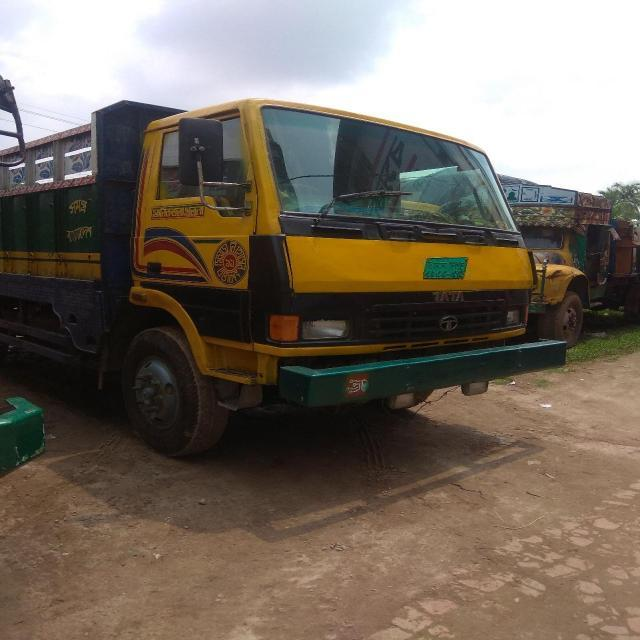numberplate: (423, 255, 469, 280)
